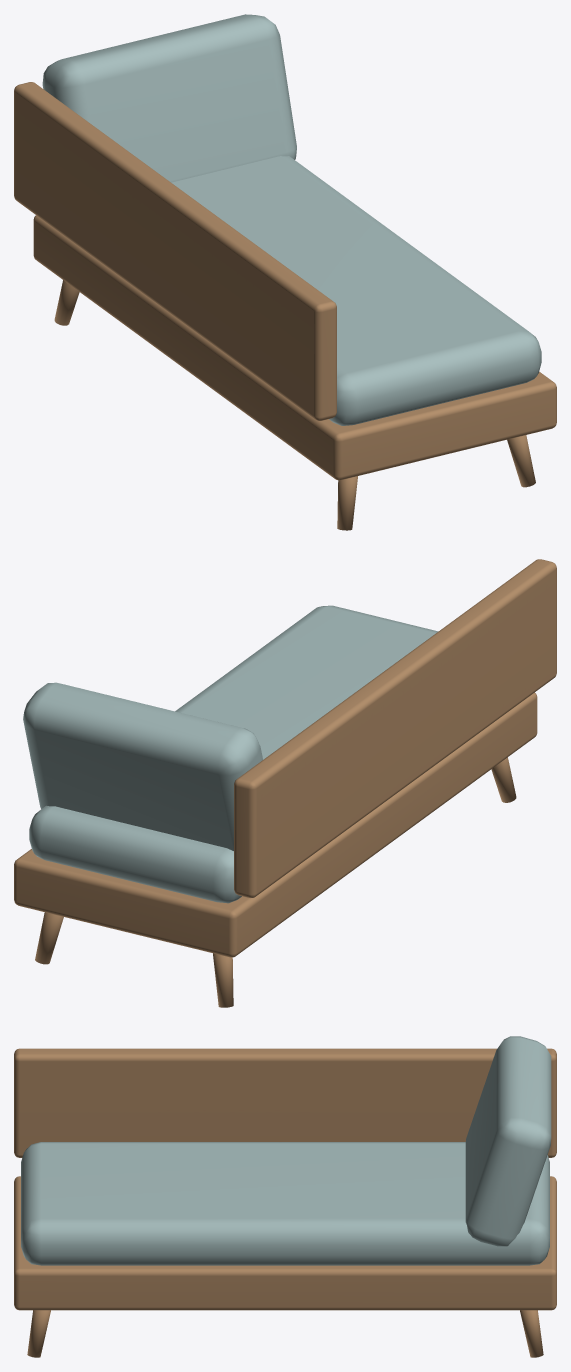
File: atelier-daybed.glb
The picture shows the model from 3 angles, top to bottom: view 1: azimuth 30°, elevation 25°; view 2: azimuth 150°, elevation 25°; view 3: azimuth 270°, elevation 25°; orthographic projection. The views are drawn at different scales.
Visible parts, largest first — view 1: legs.021, fabric.025; view 2: legs.021, fabric.025; view 3: legs.021, fabric.025.
Part boxes in pixels (box(x1,y1,x2,y2)): legs.021: box(14, 82, 556, 530); fabric.025: box(42, 14, 541, 425); legs.021: box(14, 559, 556, 1007); fabric.025: box(23, 605, 438, 903); legs.021: box(14, 1048, 556, 1357); fabric.025: box(21, 1036, 551, 1265).
Bounding box in the file's own units: 0.87 × 0.9248 × 1.9.
